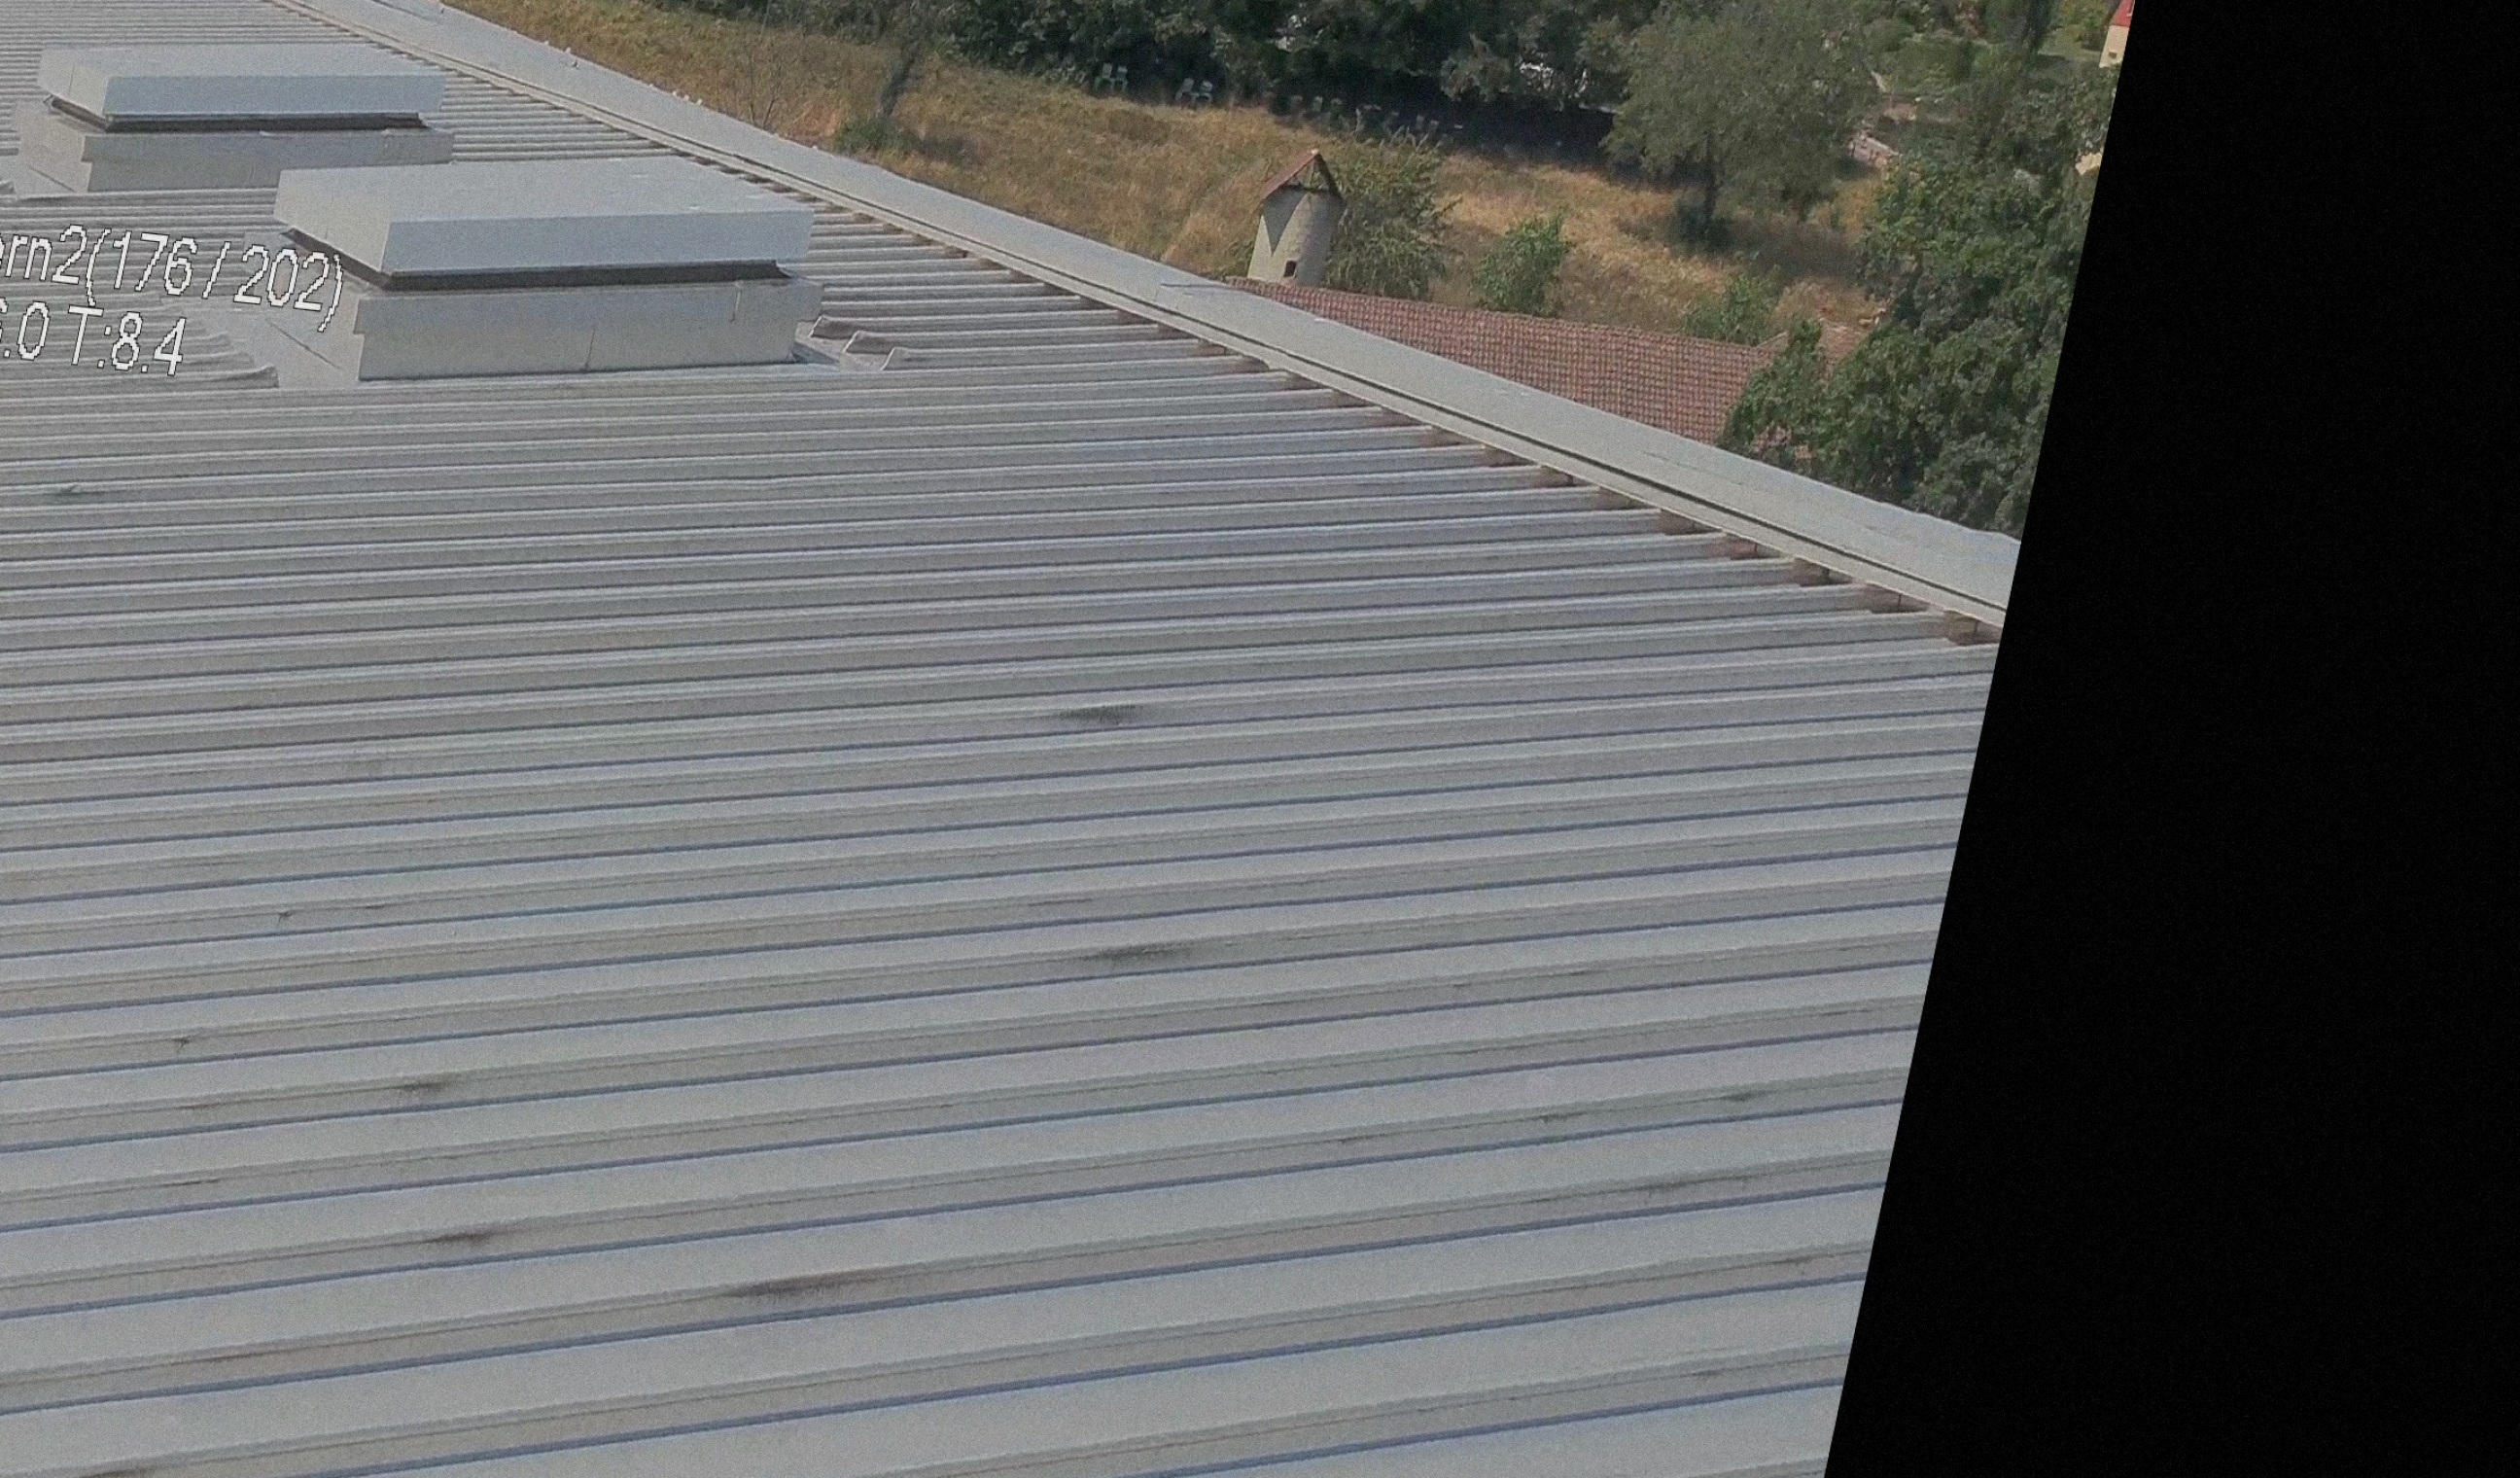Other: (1238, 123, 1391, 303)
